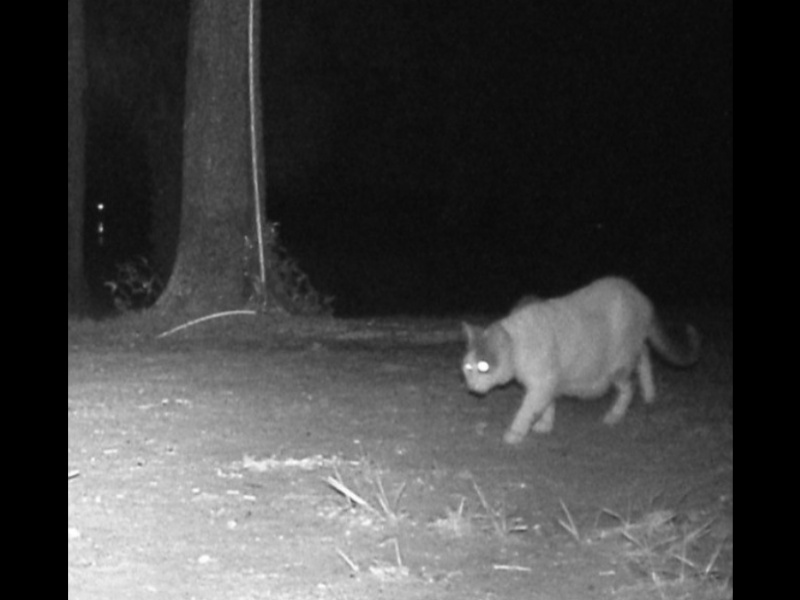cat: (453, 268, 701, 448)
